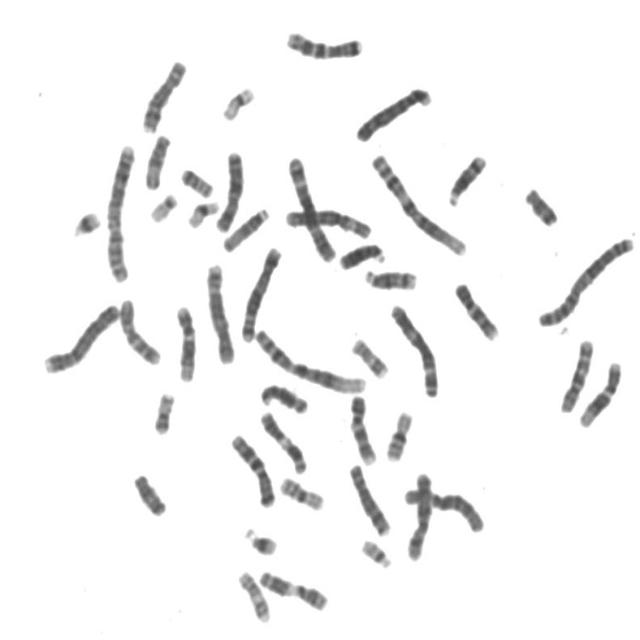A1: (368, 147, 471, 258), (250, 322, 370, 396)
A2: (534, 229, 638, 329), (100, 136, 140, 284)
A3: (284, 148, 338, 264), (386, 296, 444, 400)
B4: (40, 296, 123, 376), (352, 79, 435, 144)
B5: (237, 239, 285, 344), (202, 256, 240, 365)
C10: (115, 292, 165, 367), (556, 332, 598, 414)
C11: (255, 562, 332, 613), (257, 404, 311, 476)
C12: (575, 354, 626, 429), (172, 299, 201, 383)
C6: (401, 481, 488, 535), (282, 200, 375, 240)
C7: (227, 427, 280, 509), (282, 23, 366, 61)
C8: (138, 53, 190, 135), (345, 457, 396, 537)
C9: (451, 276, 503, 342), (346, 388, 380, 467)
D13: (257, 376, 312, 415), (335, 235, 389, 272)
D14: (445, 147, 491, 208), (360, 262, 420, 292)
D15: (219, 200, 273, 253), (140, 127, 174, 192)
E16: (276, 470, 328, 512), (382, 404, 416, 464)
E17: (234, 564, 274, 624), (348, 331, 392, 379)
E18: (129, 466, 171, 519), (521, 179, 562, 228)
F19: (218, 78, 259, 122), (184, 194, 222, 230)
F20: (177, 162, 217, 199), (150, 385, 178, 436)
G21: (241, 520, 281, 558), (68, 203, 104, 239)
G22: (358, 533, 396, 569), (146, 186, 181, 223)
X: (212, 144, 248, 233), (403, 466, 436, 562)
